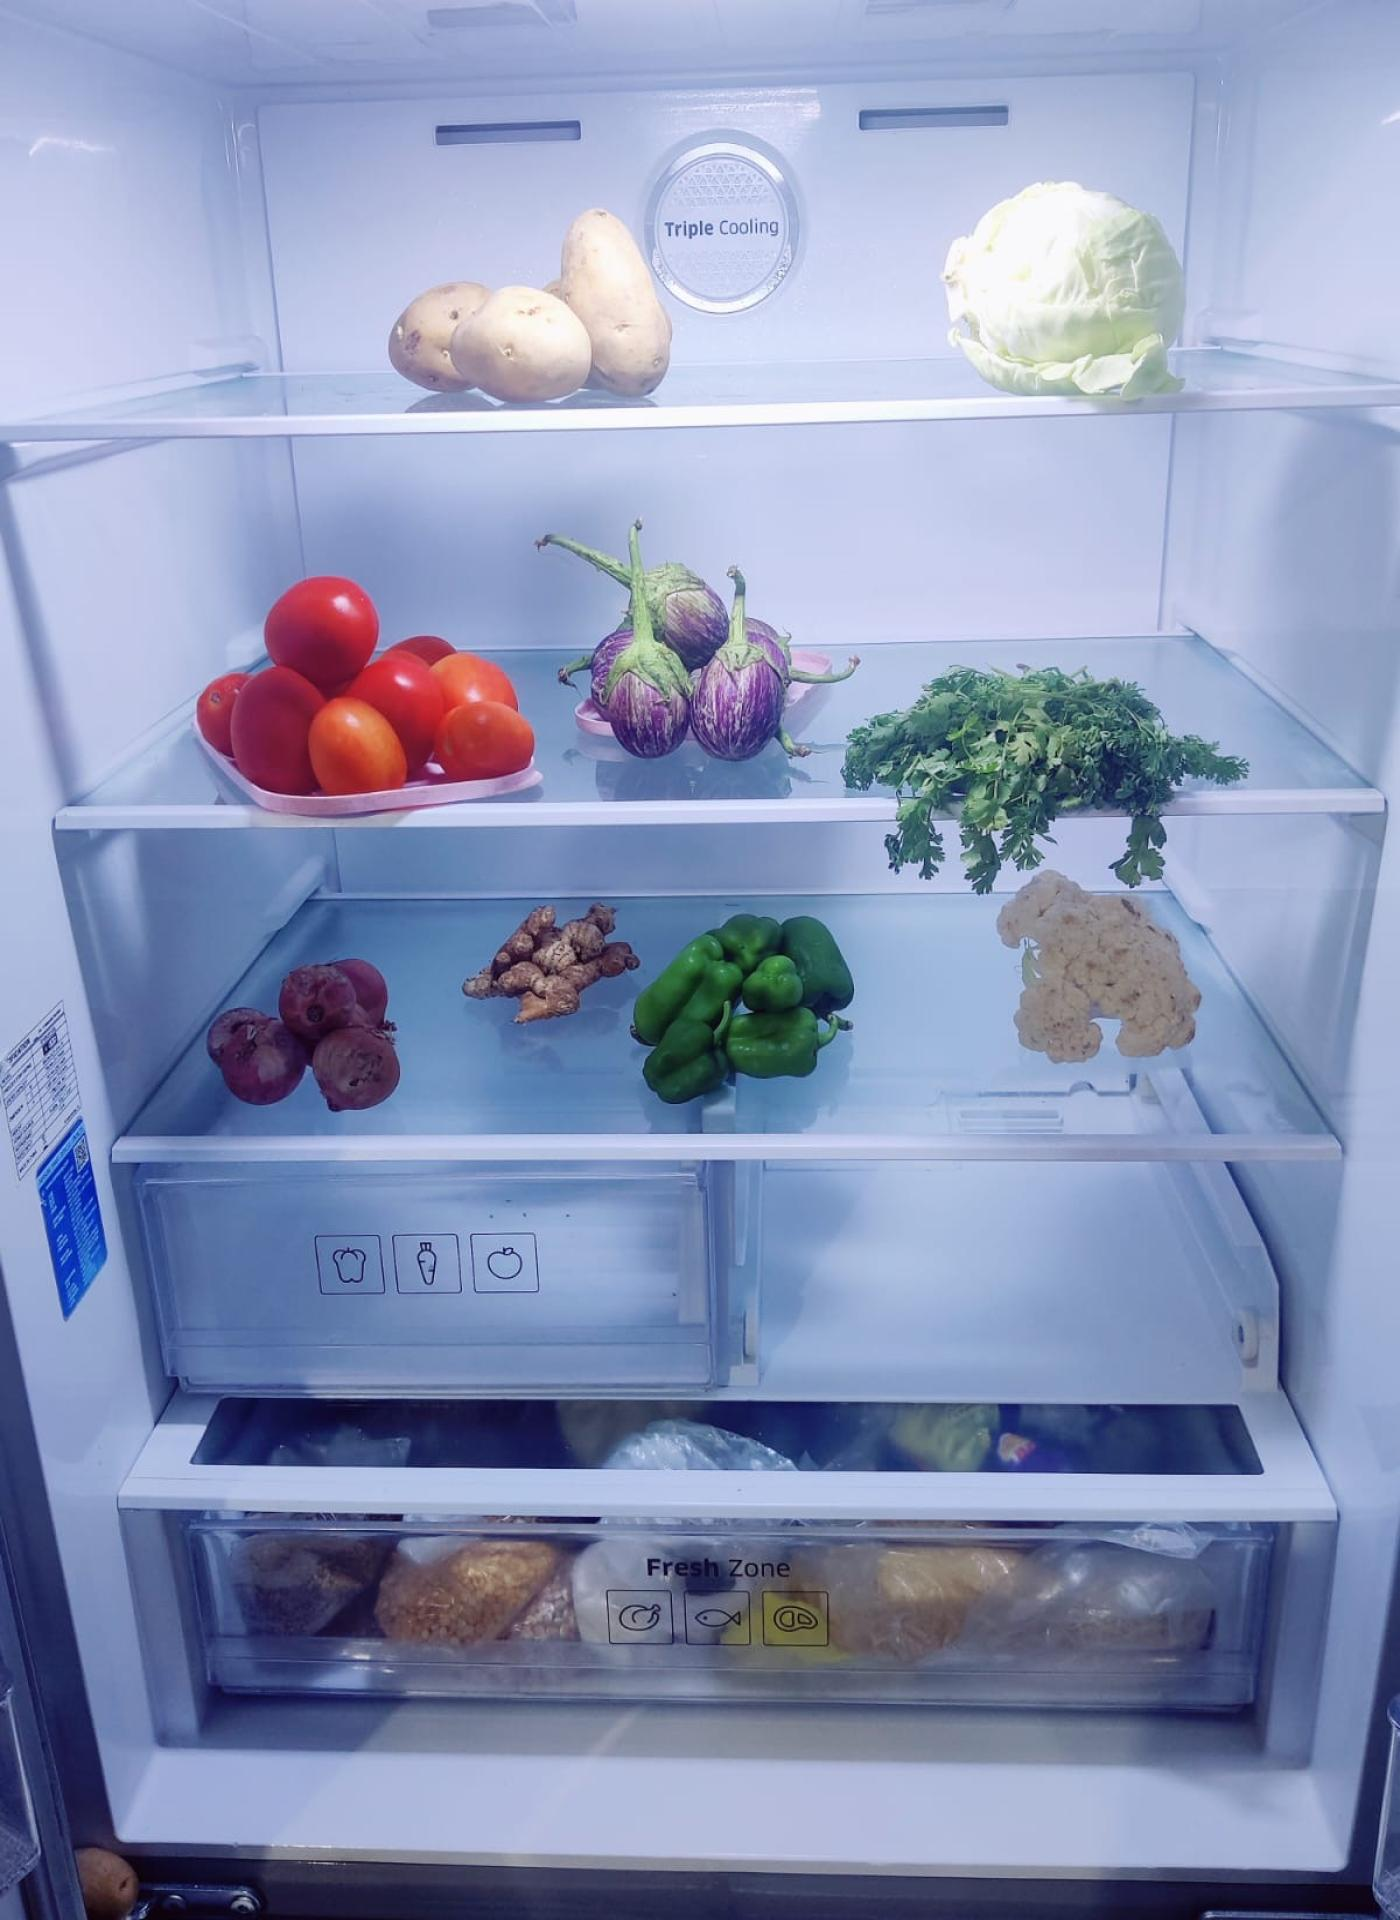brinjal: (586, 565, 787, 760)
cabbage: (945, 182, 1185, 385)
capsicum: (643, 921, 856, 1109)
cauliflower: (1005, 878, 1200, 1066)
coriander: (850, 668, 1235, 836)
ginger: (464, 896, 637, 1023)
onion: (207, 956, 403, 1103)
potato: (386, 216, 668, 404)
tomato: (200, 569, 532, 792)
